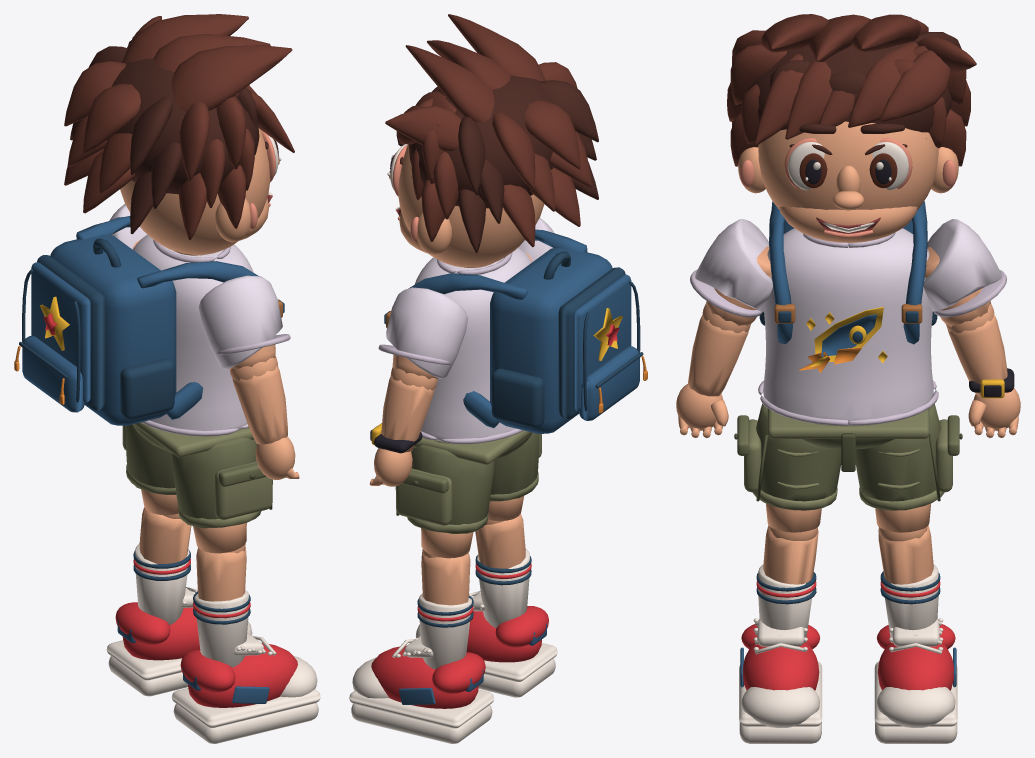
3 renders of one model, left to right at view 1: azimuth 30°, elevation 25°; view 2: azimuth 150°, elevation 25°; view 3: azimuth 270°, elevation 25°, orthographic. The views are drawn at different scales.
Parts seen in each view (by area): view 1: head_surface, torso_surface, footR_surface, legR_surface, footL_surface, armR_surface, shinR_surface, shinL_surface, foreArmR_surface, legL_surface, hip_surface, handR_surface (+1 smaller); view 2: head_surface, torso_surface, footL_surface, legL_surface, footR_surface, armL_surface, shinL_surface, shinR_surface, foreArmL_surface, legR_surface, hip_surface, handL_surface (+1 smaller); view 3: head_surface, torso_surface, footR_surface, footL_surface, legL_surface, legR_surface, armL_surface, armR_surface, shinL_surface, shinR_surface, hip_surface, foreArmL_surface (+3 smaller).
Boxes of the visible parts, box(x1,y1,x2,y2) form: head_surface: box(64, 14, 294, 255); torso_surface: box(14, 216, 284, 436); footR_surface: box(171, 633, 320, 743); legR_surface: box(171, 437, 272, 553); footL_surface: box(106, 587, 252, 696); armR_surface: box(199, 275, 290, 369); shinR_surface: box(193, 543, 250, 667); shinL_surface: box(133, 507, 191, 624); foreArmR_surface: box(230, 355, 287, 444); legL_surface: box(122, 424, 178, 515); hip_surface: box(133, 422, 254, 457); handR_surface: box(255, 436, 299, 479); head_surface: box(385, 14, 598, 267); torso_surface: box(384, 229, 647, 444); footL_surface: box(349, 636, 494, 743); legL_surface: box(395, 445, 494, 558); footR_surface: box(416, 591, 557, 697); armL_surface: box(378, 287, 467, 379); shinL_surface: box(417, 549, 473, 669); shinR_surface: box(475, 514, 531, 627); foreArmL_surface: box(370, 368, 437, 453); legR_surface: box(488, 432, 541, 521); hip_surface: box(414, 430, 532, 464); handL_surface: box(369, 448, 412, 486); head_surface: box(727, 14, 976, 242); torso_surface: box(758, 201, 938, 425); footR_surface: box(739, 618, 822, 743); footL_surface: box(874, 618, 957, 743); legL_surface: box(855, 404, 962, 532); legR_surface: box(734, 404, 841, 532); armL_surface: box(923, 219, 1006, 326); armR_surface: box(690, 219, 772, 325); shinL_surface: box(878, 525, 940, 642); shinR_surface: box(756, 525, 818, 642); hip_surface: box(767, 408, 929, 471); foreArmL_surface: box(946, 304, 1014, 398).
Size of the model in its own units: 0.5572 by 1.47 by 0.6619.
